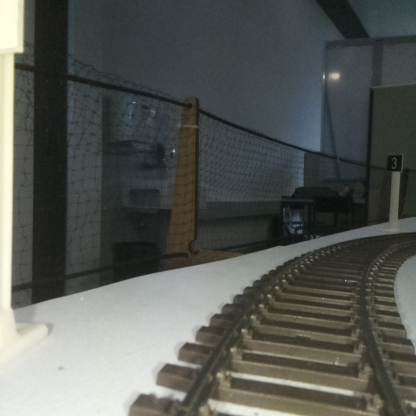black-info-3: (387, 154, 402, 230)
